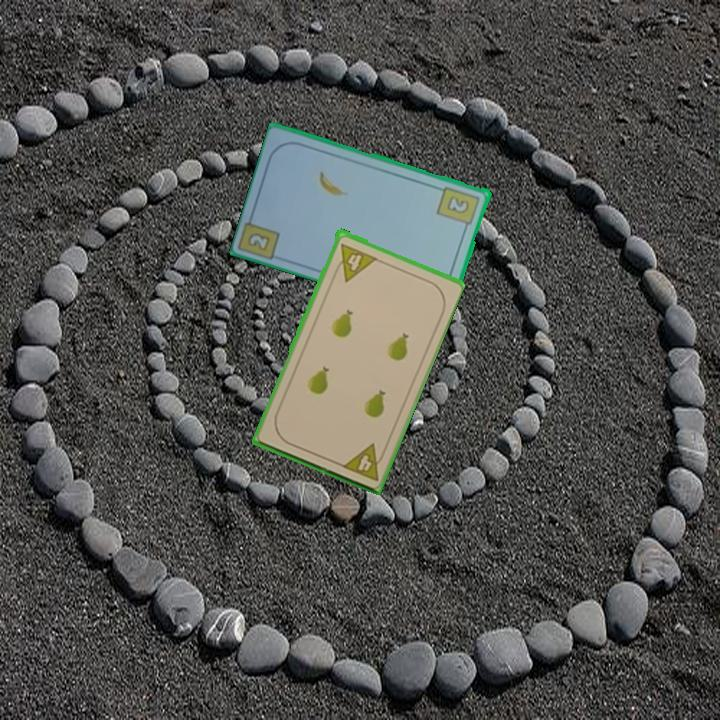2b: (434, 183, 483, 233), (246, 229, 273, 254)
4p: (338, 439, 389, 484), (329, 239, 378, 284)
